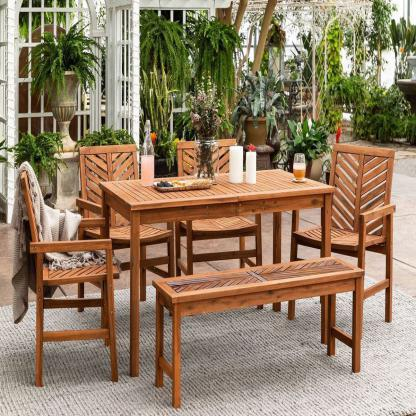table: (100, 163, 339, 381)
